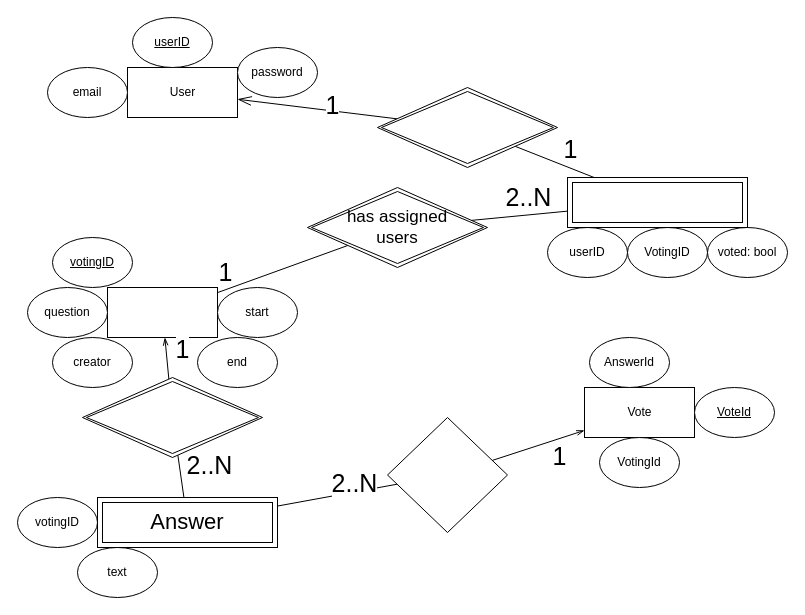
The diagram is 805 pixels wide and 615 high, and some of its shapes have lost their labels. The shapes that lost their labels are listed below. From the top down, each one's centre as x and y in pixels, then its label:
At [467,127]: "is Assigned".
At [657,202]: "AssignedUser".
At [162,312]: "Voting".
At [172,417]: "hasAnswers".
At [447,474]: "Apoints to answer".
